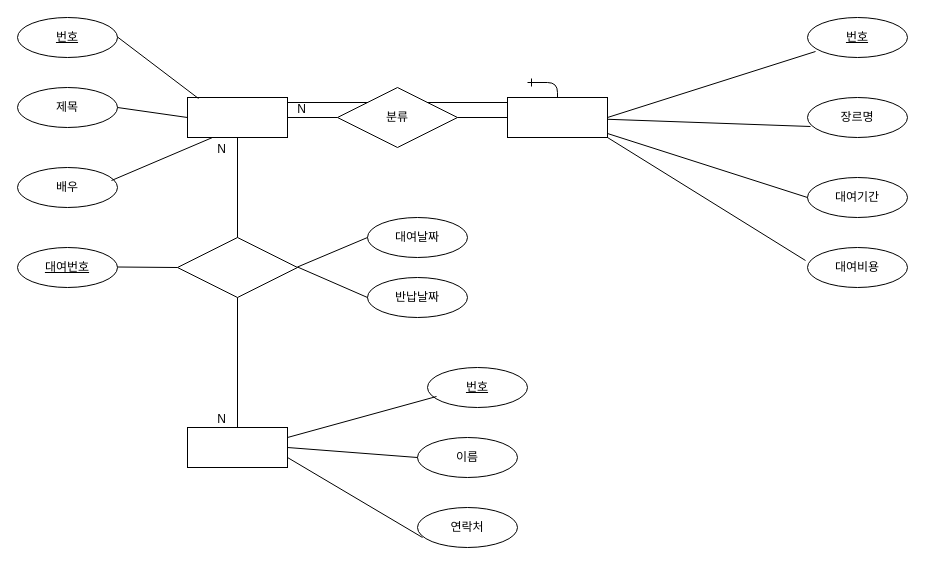
This 925x565 diagram has some shape labels left out. Here are the shapes that lost their labels. From the top down, the centre of each, then its label:
the point at 237,117: 비디오
the point at 557,117: 장르
the point at 237,267: 대여
the point at 237,447: 회원
